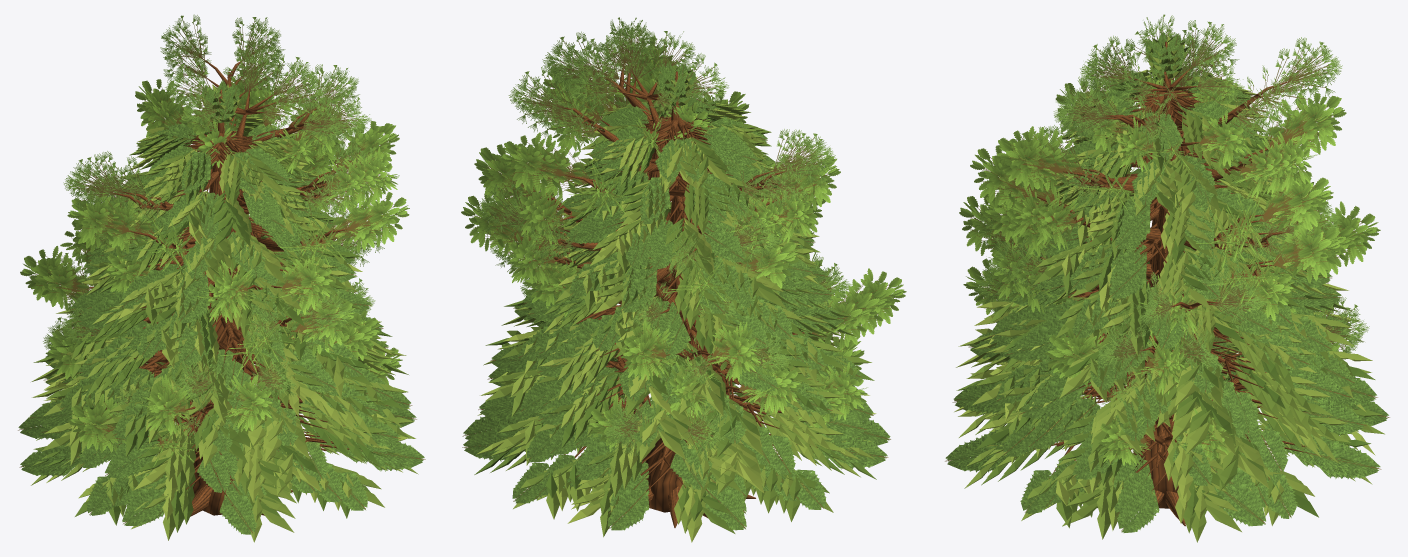
Rendered from HeroTrees.glb.
3 views of the same model, side by side, from view 1: azimuth 30°, elevation 25°; view 2: azimuth 150°, elevation 25°; view 3: azimuth 270°, elevation 25° (orthographic). The views are drawn at different scales.
Parts seen in each view (by area): view 1: SM_SculptedSpruce_Foliage_LOD0, SM_LayeredFir_Foliage_LOD0, SM_AncientOak_Foliage_LOD0, SM_WindsweptPine_Foliage_LOD0, SM_SculptedSpruce_Bark_LOD0, SM_WindsweptPine_Bark_LOD0, SM_AncientOak_Bark_LOD0, SM_LayeredFir_Bark_LOD0; view 2: SM_SculptedSpruce_Foliage_LOD0, SM_LayeredFir_Foliage_LOD0, SM_AncientOak_Foliage_LOD0, SM_WindsweptPine_Foliage_LOD0, SM_SculptedSpruce_Bark_LOD0, SM_LayeredFir_Bark_LOD0, SM_WindsweptPine_Bark_LOD0, SM_AncientOak_Bark_LOD0; view 3: SM_SculptedSpruce_Foliage_LOD0, SM_LayeredFir_Foliage_LOD0, SM_AncientOak_Foliage_LOD0, SM_WindsweptPine_Foliage_LOD0, SM_AncientOak_Bark_LOD0, SM_LayeredFir_Bark_LOD0, SM_SculptedSpruce_Bark_LOD0, SM_WindsweptPine_Bark_LOD0.
Part boxes in pixels (x1,y1,x2,y2): SM_SculptedSpruce_Foliage_LOD0: (29, 84, 418, 542); SM_LayeredFir_Foliage_LOD0: (18, 79, 425, 534); SM_AncientOak_Foliage_LOD0: (20, 69, 409, 470); SM_WindsweptPine_Foliage_LOD0: (43, 14, 392, 447); SM_SculptedSpruce_Bark_LOD0: (134, 89, 346, 519); SM_WindsweptPine_Bark_LOD0: (114, 59, 335, 487); SM_AncientOak_Bark_LOD0: (88, 126, 347, 515); SM_LayeredFir_Bark_LOD0: (94, 89, 349, 495); SM_SculptedSpruce_Foliage_LOD0: (474, 65, 876, 542); SM_LayeredFir_Foliage_LOD0: (462, 62, 890, 530); SM_AncientOak_Foliage_LOD0: (461, 37, 906, 454); SM_WindsweptPine_Foliage_LOD0: (476, 17, 851, 462); SM_SculptedSpruce_Bark_LOD0: (572, 71, 810, 527); SM_LayeredFir_Bark_LOD0: (564, 71, 817, 491); SM_WindsweptPine_Bark_LOD0: (551, 64, 784, 453); SM_AncientOak_Bark_LOD0: (539, 103, 804, 512); SM_SculptedSpruce_Foliage_LOD0: (954, 35, 1384, 542); SM_LayeredFir_Foliage_LOD0: (945, 31, 1389, 532); SM_AncientOak_Foliage_LOD0: (959, 66, 1380, 466); SM_WindsweptPine_Foliage_LOD0: (973, 14, 1369, 405); SM_AncientOak_Bark_LOD0: (1037, 133, 1280, 508); SM_LayeredFir_Bark_LOD0: (1054, 41, 1308, 490); SM_SculptedSpruce_Bark_LOD0: (1033, 42, 1304, 526); SM_WindsweptPine_Bark_LOD0: (1040, 66, 1287, 443).
Size of what is drawn, in the model's own units: 7.81 by 9.08 by 7.87.
3 materials, 3 textured.
